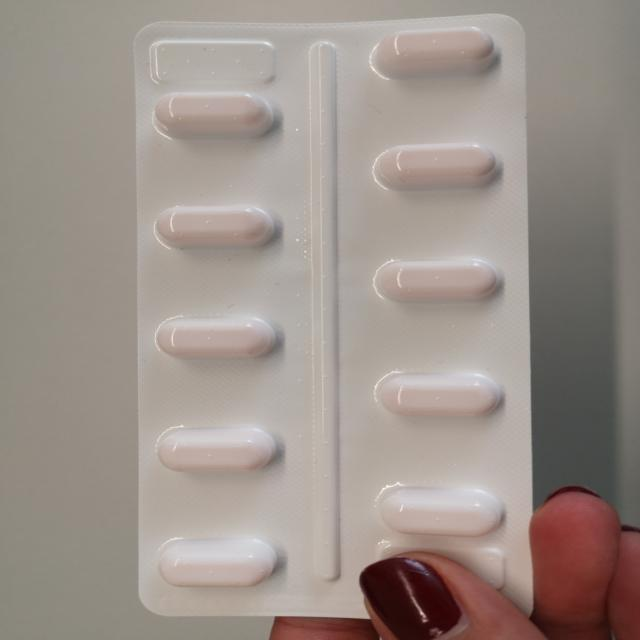Pill: (142, 529, 295, 597), (362, 477, 518, 542), (144, 84, 290, 151), (357, 139, 516, 200), (359, 252, 516, 313), (147, 303, 290, 368), (144, 198, 297, 258), (362, 24, 506, 86), (142, 416, 286, 478), (364, 366, 516, 421)
